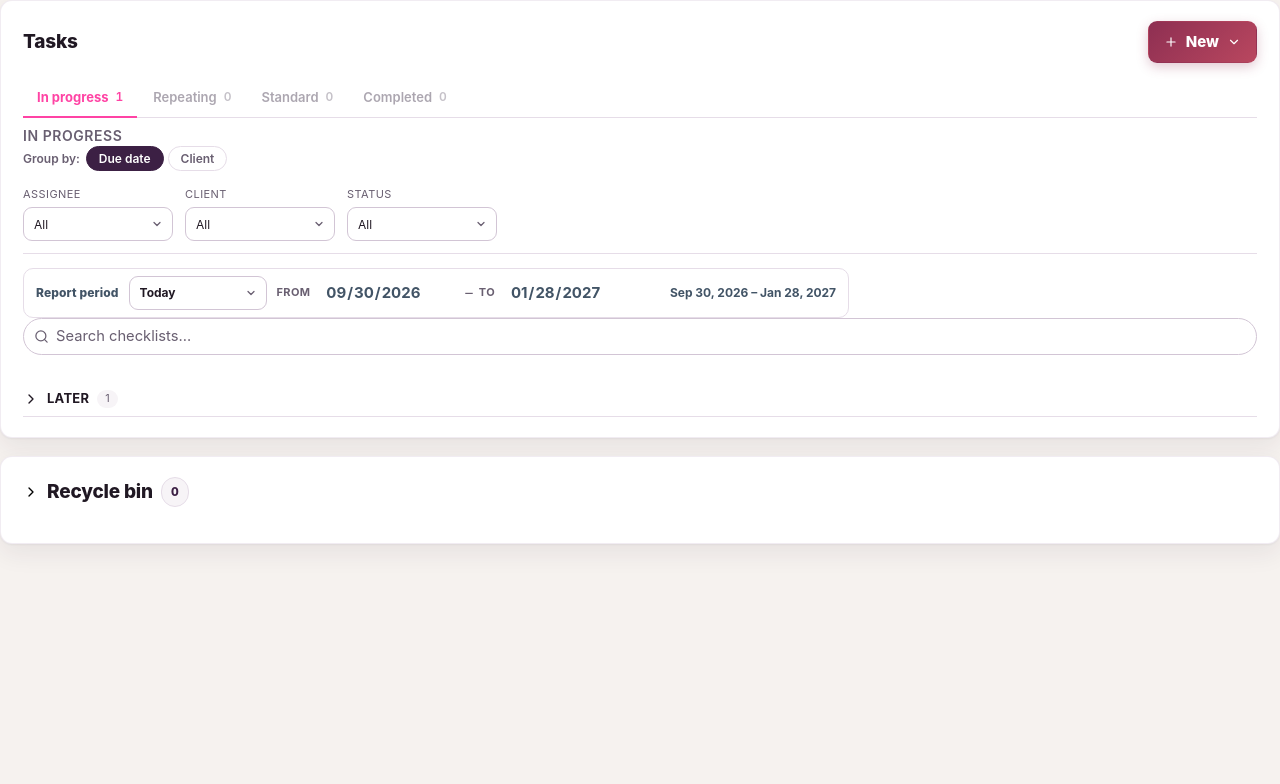
Hide completed (N) › Show brings them back, in the bottom group
The image size is (1280, 784).
What coordinates should you click on to do the following:
click the button "Later 1"
I would click on:
 (68, 398)
Its box is x1=23 y1=381 x2=1257 y2=417.
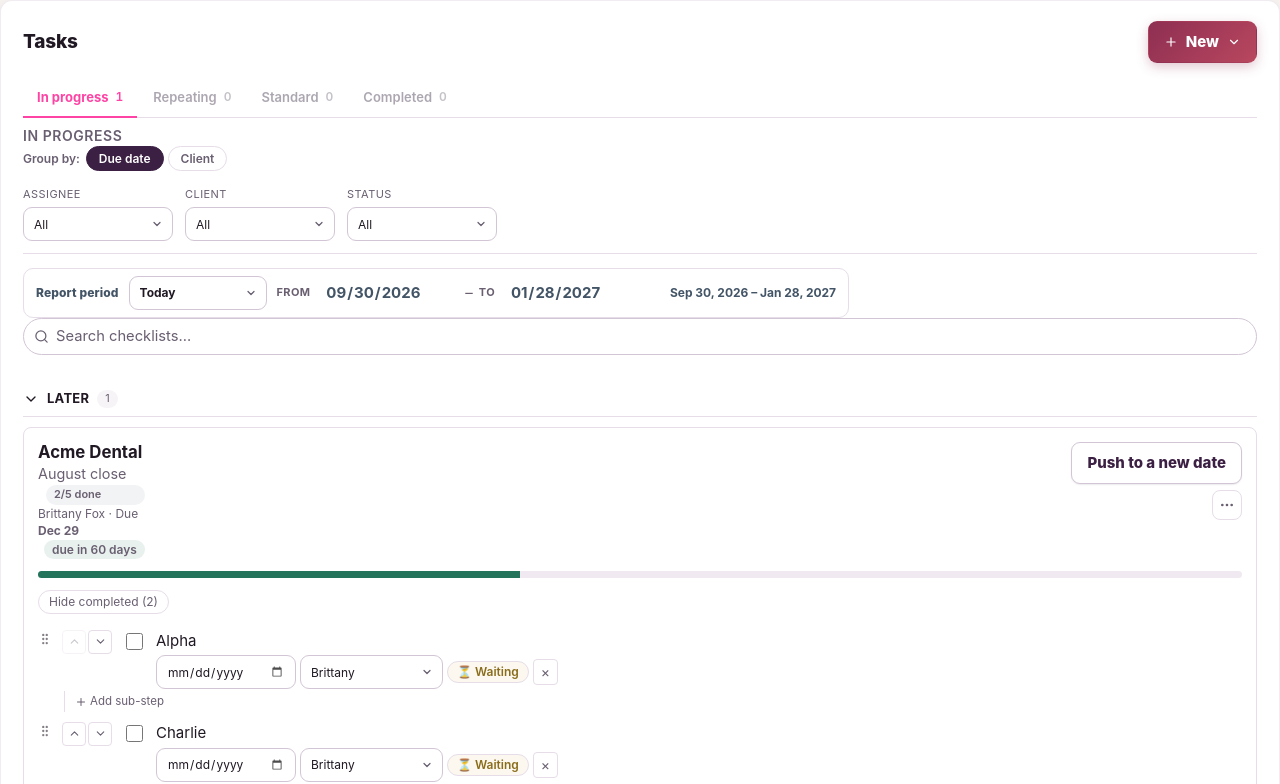
What coordinates should you click on to do the following:
click the button "Hide completed (2)"
I would click on:
 (104, 602)
Its box is x1=38 y1=590 x2=169 y2=614.
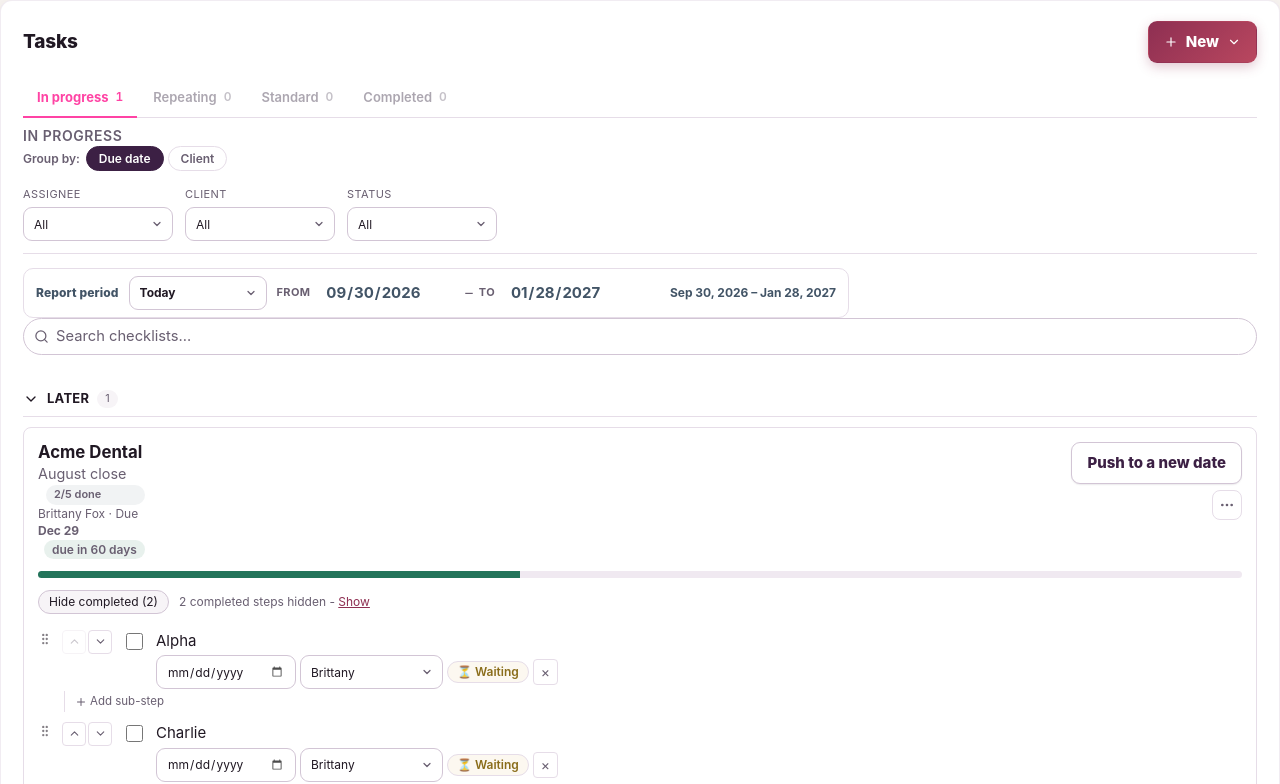
What coordinates should you click on to do the following:
click the button "Show"
I would click on:
 (354, 602)
Its box is x1=338 y1=593 x2=370 y2=610.
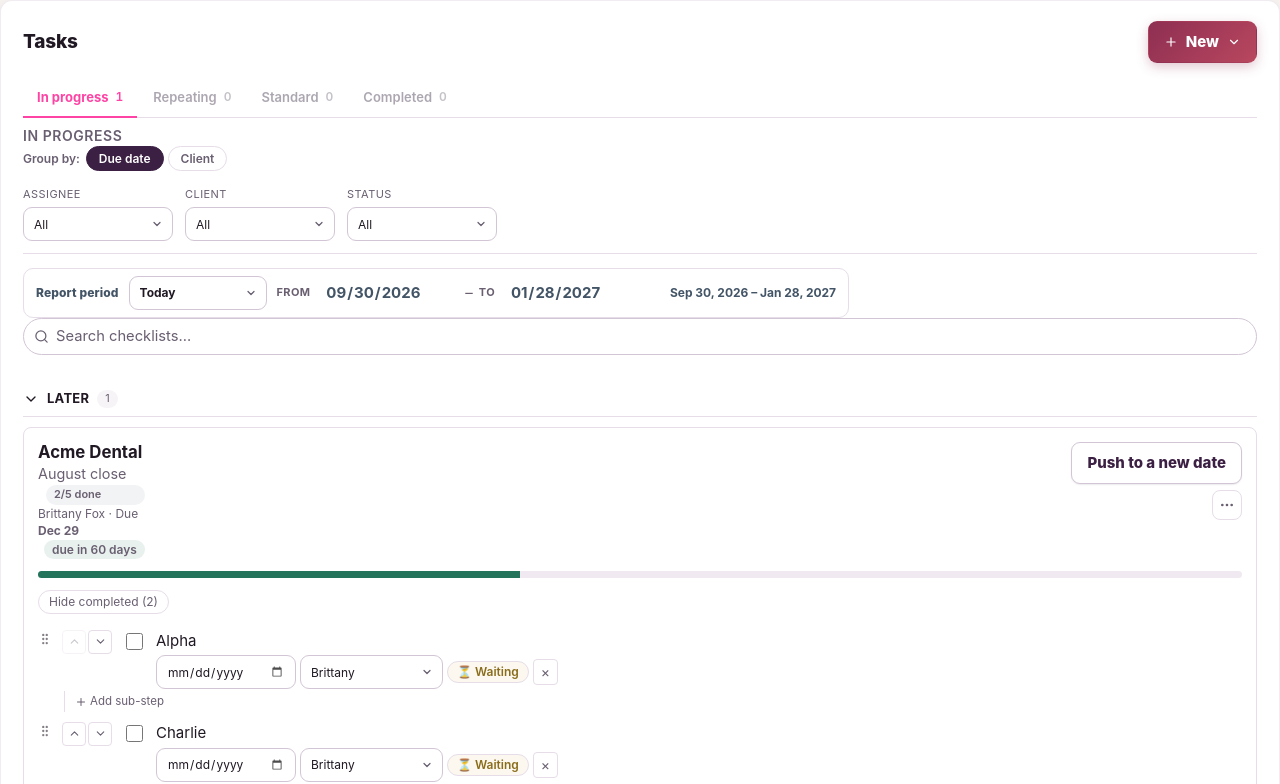
Expected: the text "2 completed steps hidden - Show" is gone
